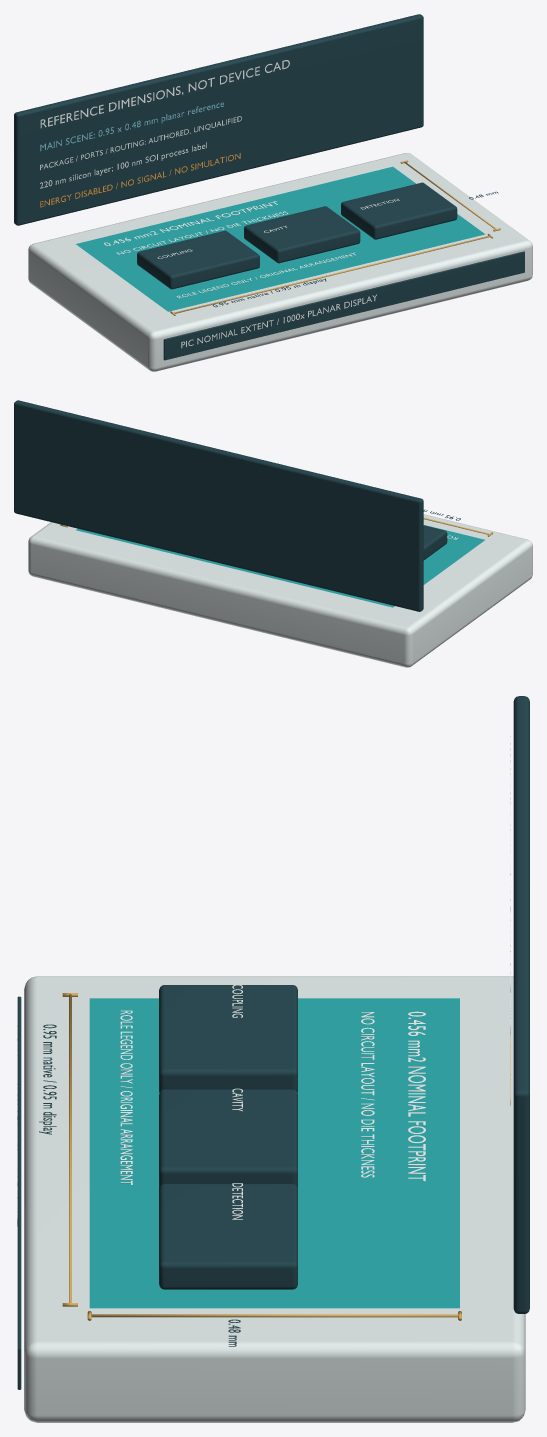
Rendered from laser_pic_display.glb.
3 renders of one model, top to bottom at view 1: azimuth 30°, elevation 25°; view 2: azimuth 150°, elevation 25°; view 3: azimuth 270°, elevation 25°, orthographic. The views are drawn at different scales.
Visible parts, largest first — view 1: display.info_panel, display.plinth, display.pic_footprint_reference, display.title.plate, display.role.coupler, display.role.ring, display.role.detector, display.info_title, display.width_gauge, display.info_4, display.title.text, display.info_2 (+3 smaller); view 2: display.info_panel, display.plinth, display.pic_footprint_reference, display.role.coupler; view 3: display.plinth, display.pic_footprint_reference, display.role.detector, display.role.coupler, display.role.ring, display.info_panel, display.title.plate, display.height_gauge, display.area, display.roles_note, display.no_layout, display.width_gauge.
Part boxes in pixels (<box>): display.info_panel: <box>14,14,423,225</box>; display.plinth: <box>28,153,532,371</box>; display.pic_footprint_reference: <box>76,166,485,311</box>; display.title.plate: <box>163,251,524,360</box>; display.role.coupler: <box>137,230,259,289</box>; display.role.ring: <box>244,206,360,263</box>; display.role.detector: <box>341,182,457,239</box>; display.info_title: <box>40,60,289,128</box>; display.width_gauge: <box>173,235,489,313</box>; display.info_4: <box>40,153,240,207</box>; display.title.text: <box>181,294,376,348</box>; display.info_2: <box>40,116,241,169</box>; display.info_panel: <box>14,400,423,611</box>; display.plinth: <box>28,514,532,667</box>; display.pic_footprint_reference: <box>76,525,484,607</box>; display.role.coupler: <box>423,525,447,560</box>; display.plinth: <box>24,976,525,1422</box>; display.pic_footprint_reference: <box>89,998,459,1308</box>; display.role.detector: <box>159,1183,297,1289</box>; display.role.coupler: <box>159,985,297,1092</box>; display.role.ring: <box>159,1089,297,1188</box>; display.info_panel: <box>513,696,529,1313</box>; display.title.plate: <box>17,996,21,1389</box>; display.height_gauge: <box>91,1314,458,1317</box>; display.area: <box>408,1011,425,1181</box>; display.roles_note: <box>120,1010,132,1184</box>; display.no_layout: <box>361,1012,374,1177</box>; display.width_gauge: <box>69,994,71,1302</box>.
Size of the model in its own units: 1.23 by 0.4955 by 0.6646.
